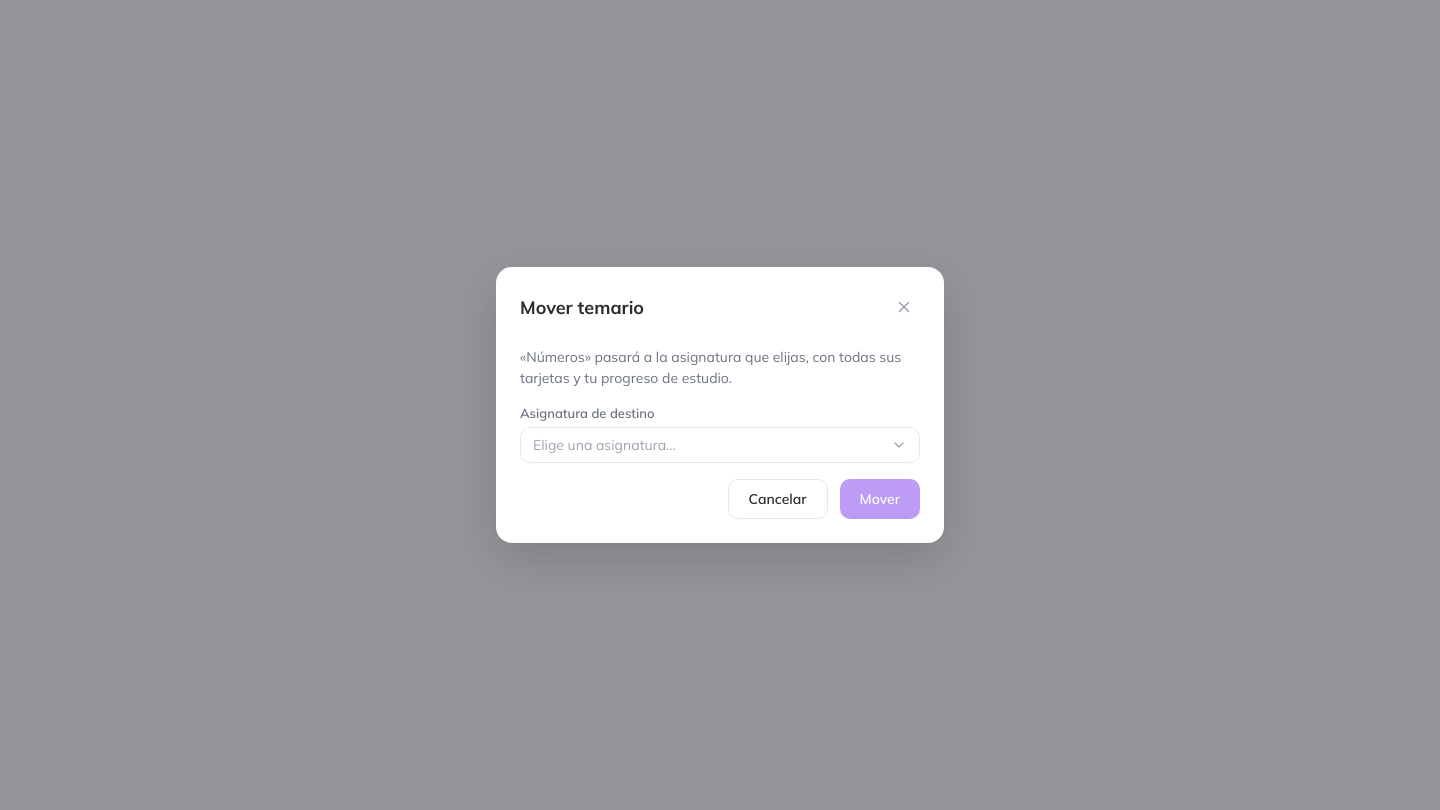
it: MoveCategoryModal › no permite mover hasta elegir una asignatura
The width and height of the screenshot is (1440, 810).
Expected: the button "Mover" is disabled, [840, 479, 920, 519]
Step 1. Click the dropdown named "Asignatura de destino" → {"x": 604, "y": 445}, box [520, 427, 920, 463]
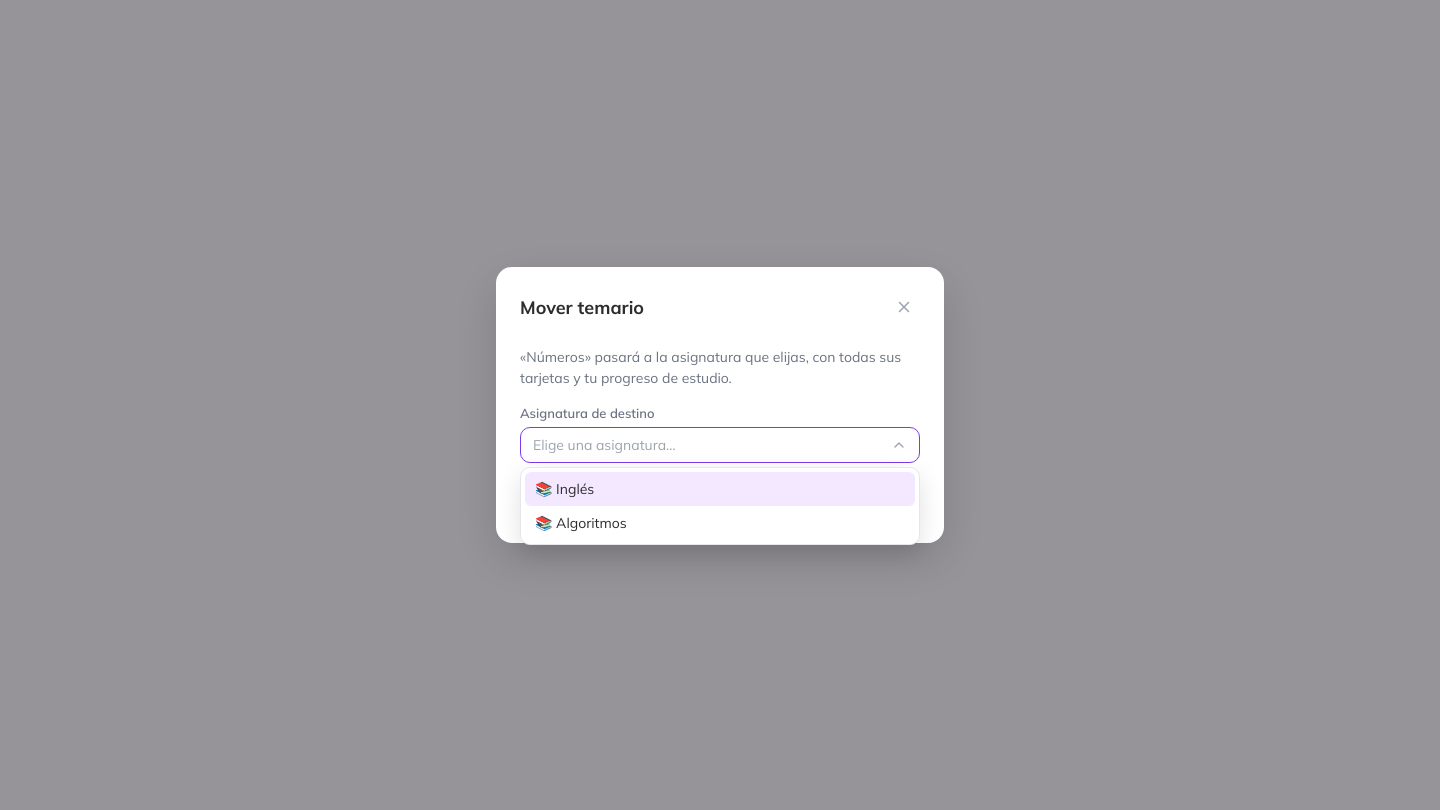
Step 2. Click the option "📚 Inglés" → {"x": 565, "y": 489}, box [525, 472, 915, 506]
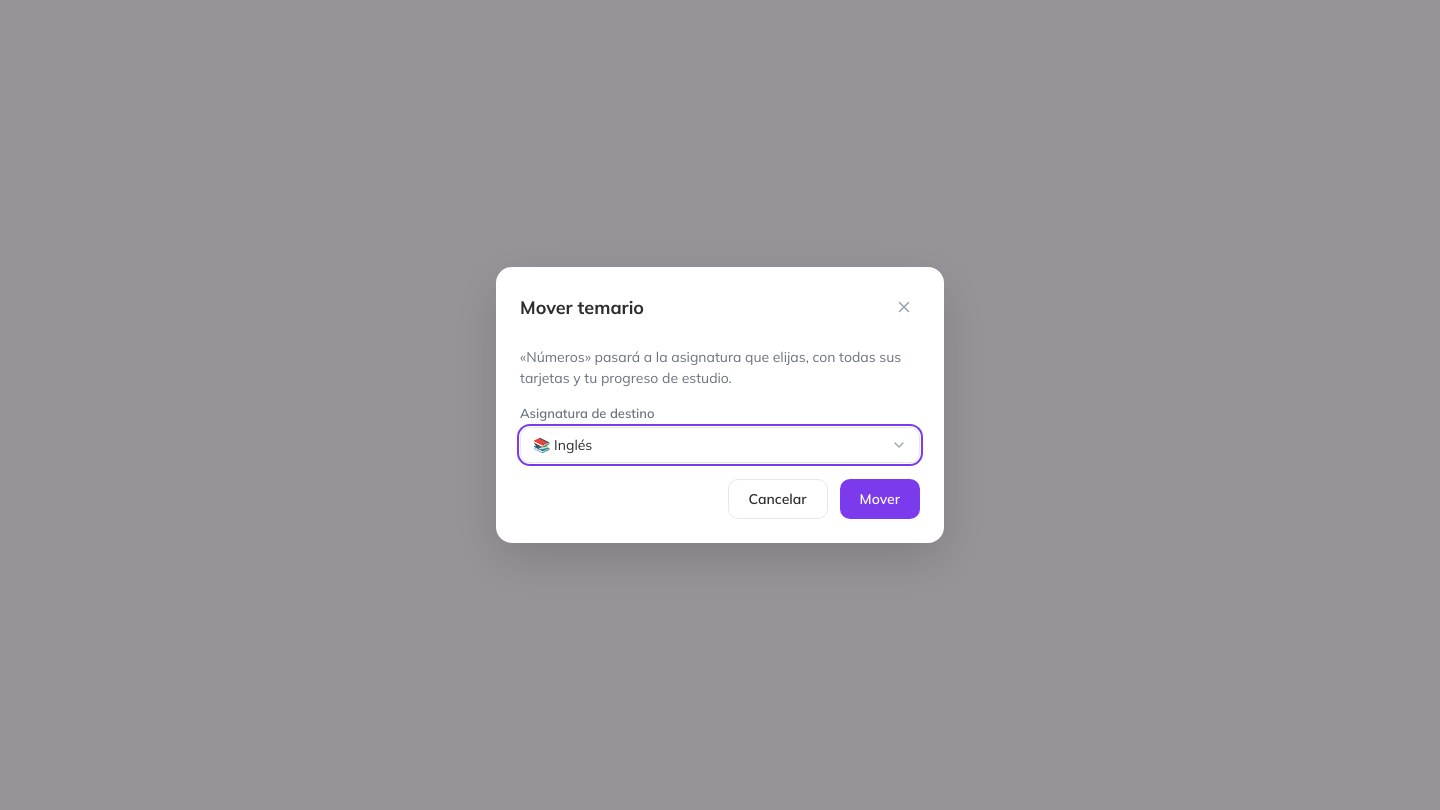
Result: the button "Mover" is enabled at [840, 479, 920, 519]
